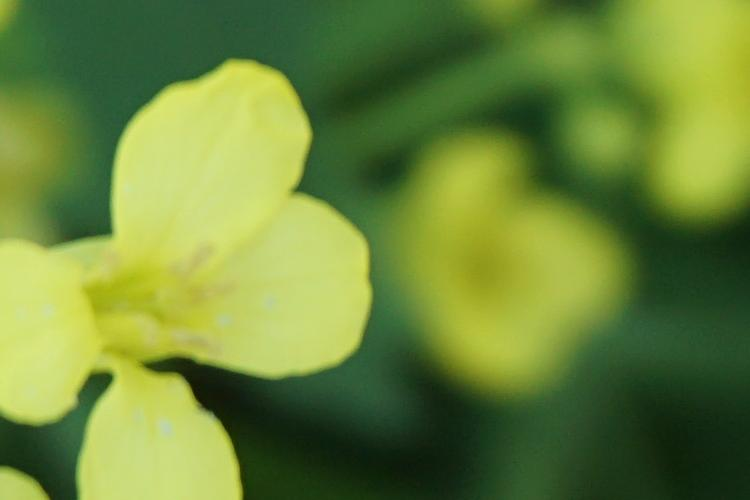yellow: (2, 56, 367, 500)
